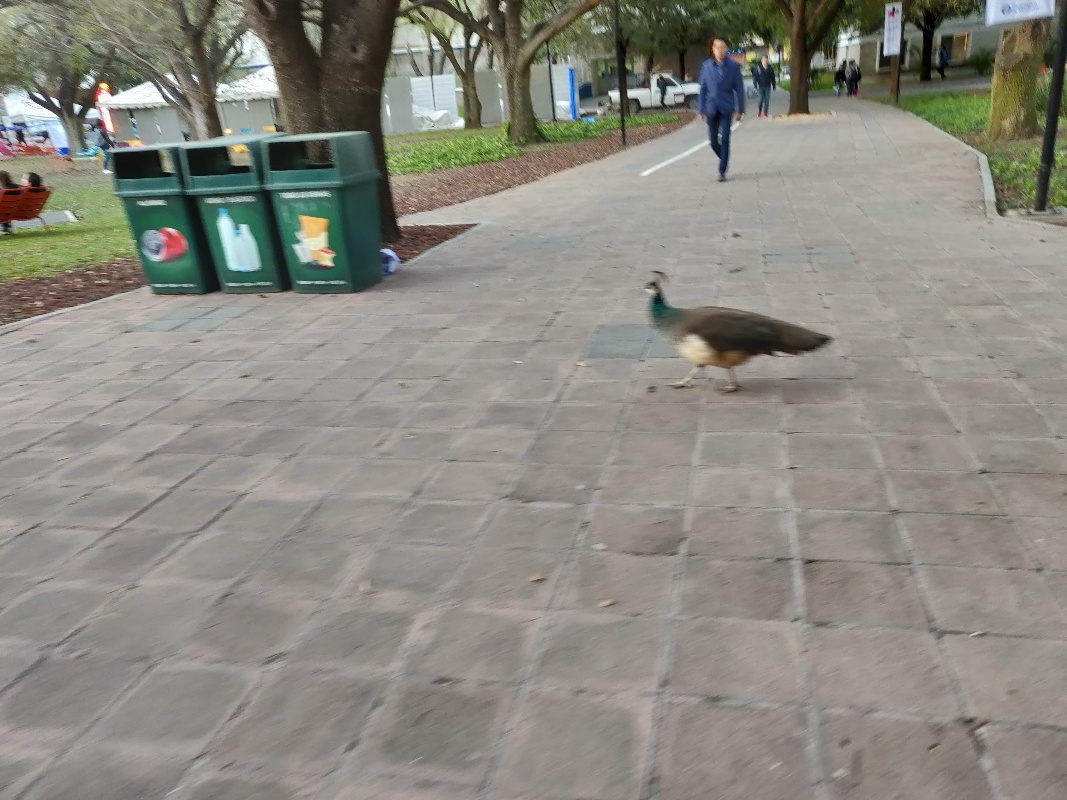pavoreal: (638, 264, 829, 375)
